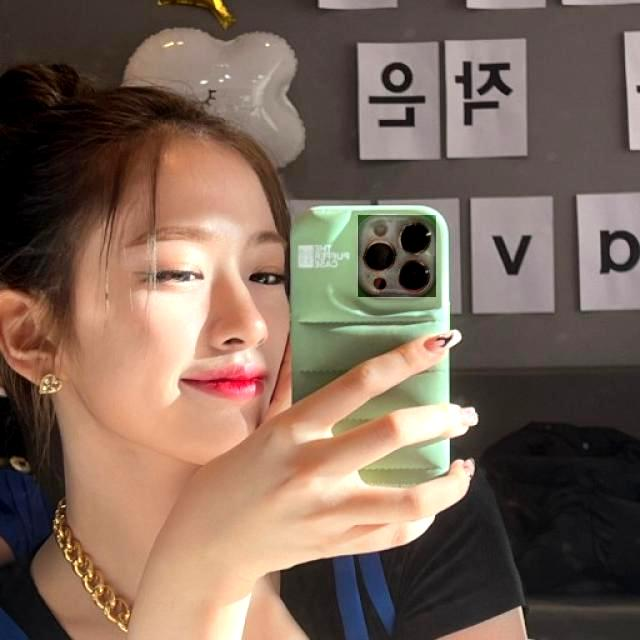lens_back: (358, 215, 436, 297)
phone: (286, 200, 459, 490)
